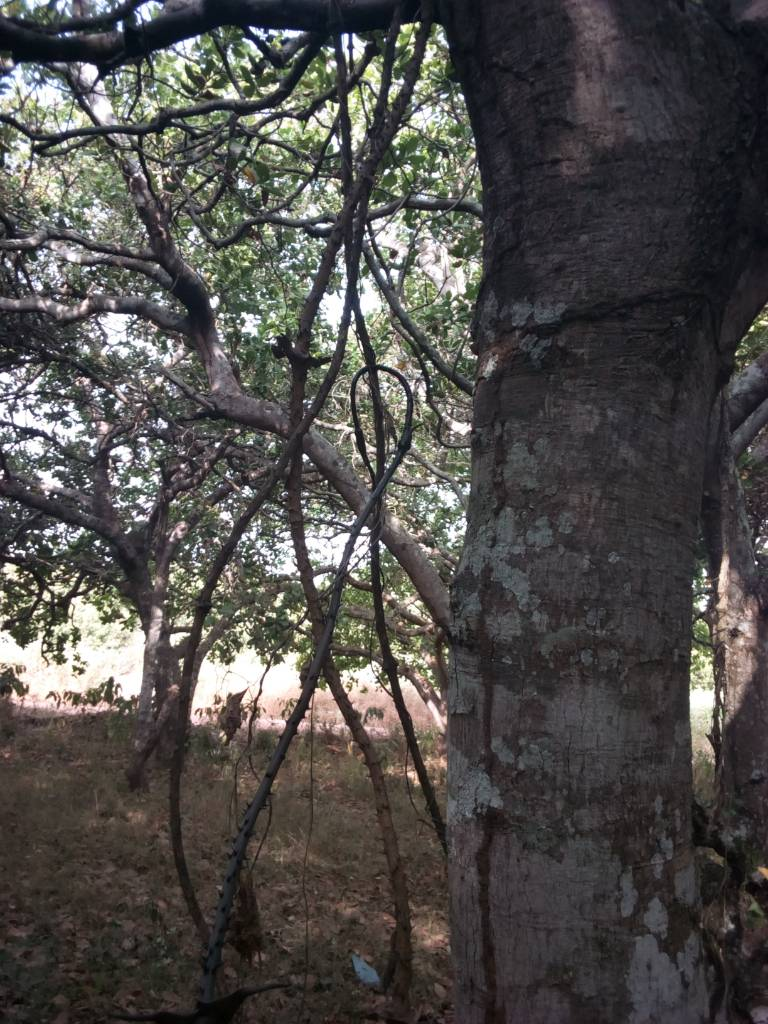Termites: (469, 577, 515, 1017)
